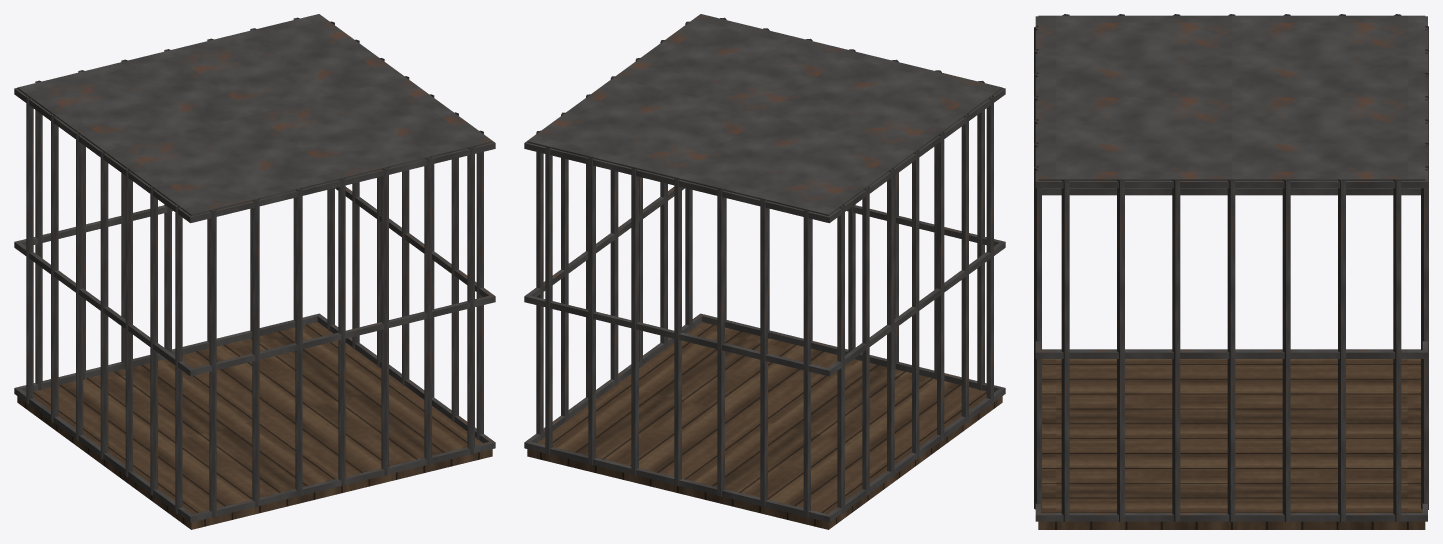
File: Cage_Large.gltf
3 renders of one model, left to right at view 1: azimuth 30°, elevation 25°; view 2: azimuth 150°, elevation 25°; view 3: azimuth 270°, elevation 25°, orthographic. The views are drawn at different scales.
Parts seen in each view (by area): view 1: Cage_Large; view 2: Cage_Large; view 3: Cage_Large.
Part boxes in pixels (bbox=[...]): Cage_Large: bbox=[14, 14, 495, 529]; Cage_Large: bbox=[524, 14, 1005, 529]; Cage_Large: bbox=[1034, 14, 1428, 529].
Bounding box in the file's own units: 2.25 × 2.2 × 2.25.
Materials: 2 (2 with a texture image).
